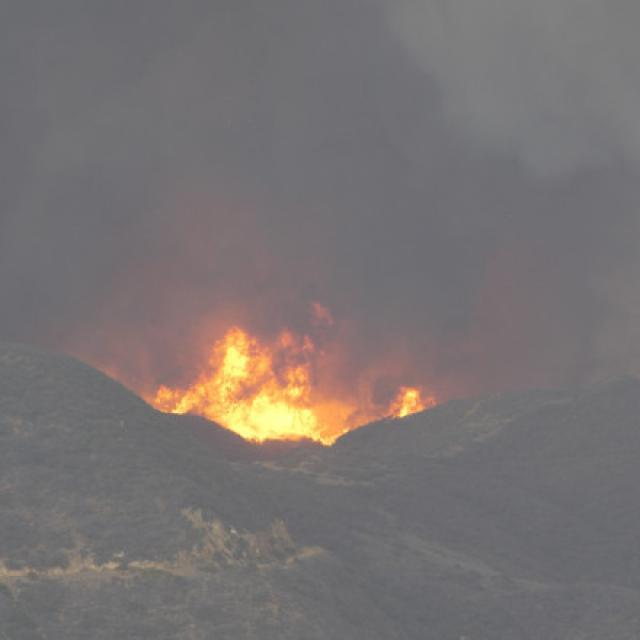Fire: (142, 298, 440, 454)
Smoke: (140, 0, 436, 296), (0, 456, 353, 640), (350, 462, 640, 640), (439, 202, 639, 459), (0, 0, 137, 304), (440, 0, 640, 201), (0, 301, 143, 449)
